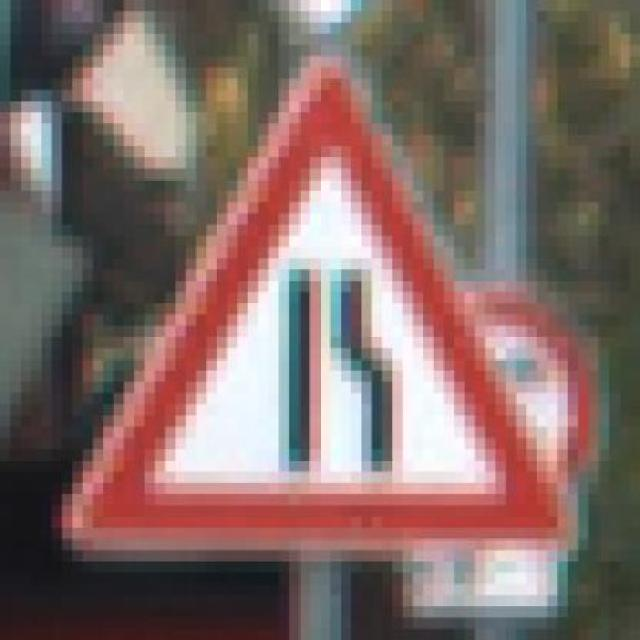-Road narrows on right: (51, 34, 568, 561)
